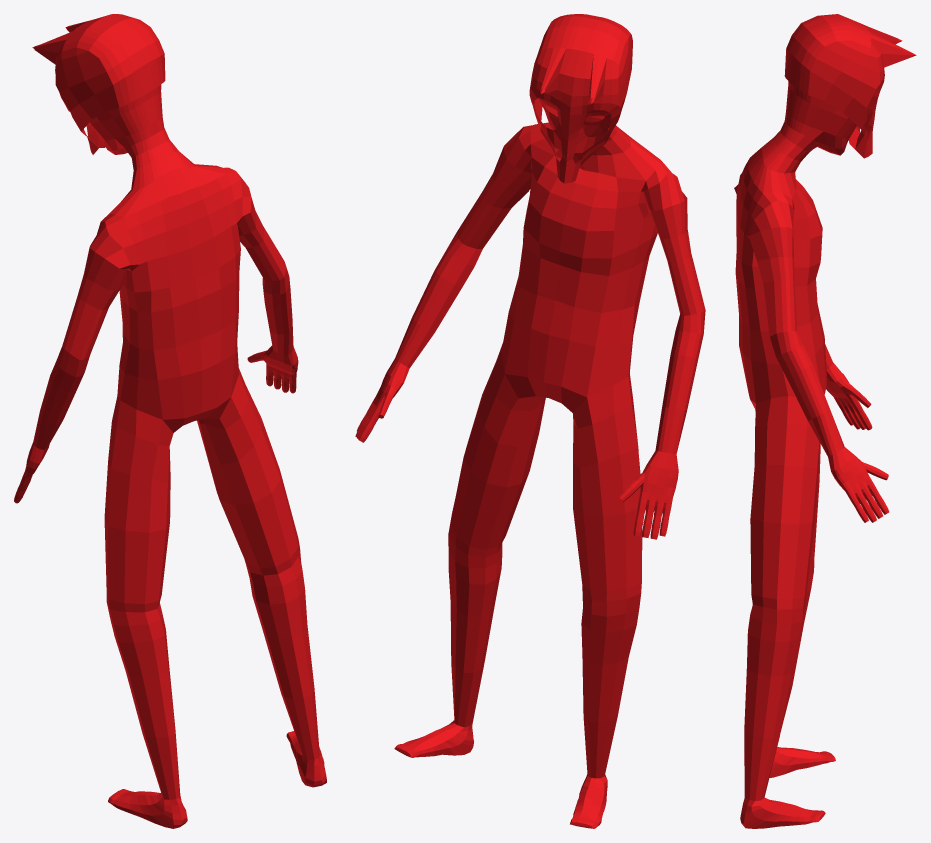
Rendered from reposoE_000279.obj.
3 renders of one model, left to right at view 1: azimuth 30°, elevation 25°; view 2: azimuth 150°, elevation 25°; view 3: azimuth 270°, elevation 25°, orthographic. The views are drawn at different scales.
Visible parts, largest first — view 1: Plane.002_Plane.001; view 2: Plane.002_Plane.001; view 3: Plane.002_Plane.001.
Part boxes in pixels (box(x1,y1,x2,y2)): Plane.002_Plane.001: box(14, 14, 326, 828); Plane.002_Plane.001: box(355, 14, 705, 828); Plane.002_Plane.001: box(734, 14, 916, 828).
Bounding box in the file's own units: 2.75 × 7.13 × 1.59.
